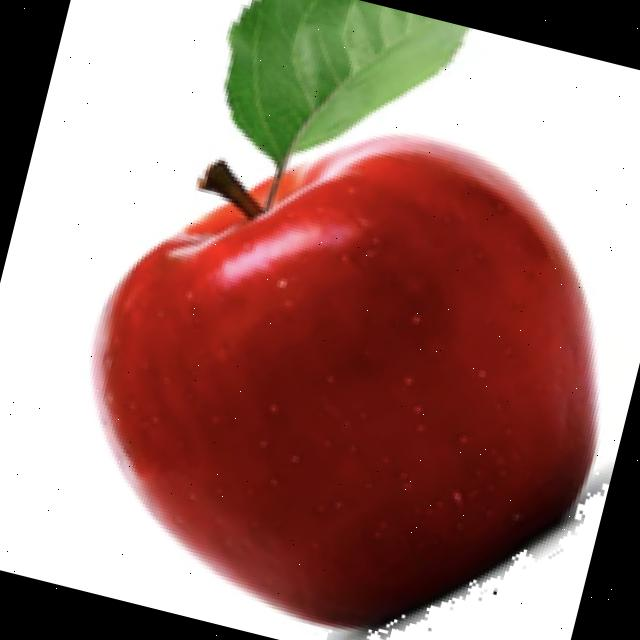apple: (85, 0, 613, 640)
